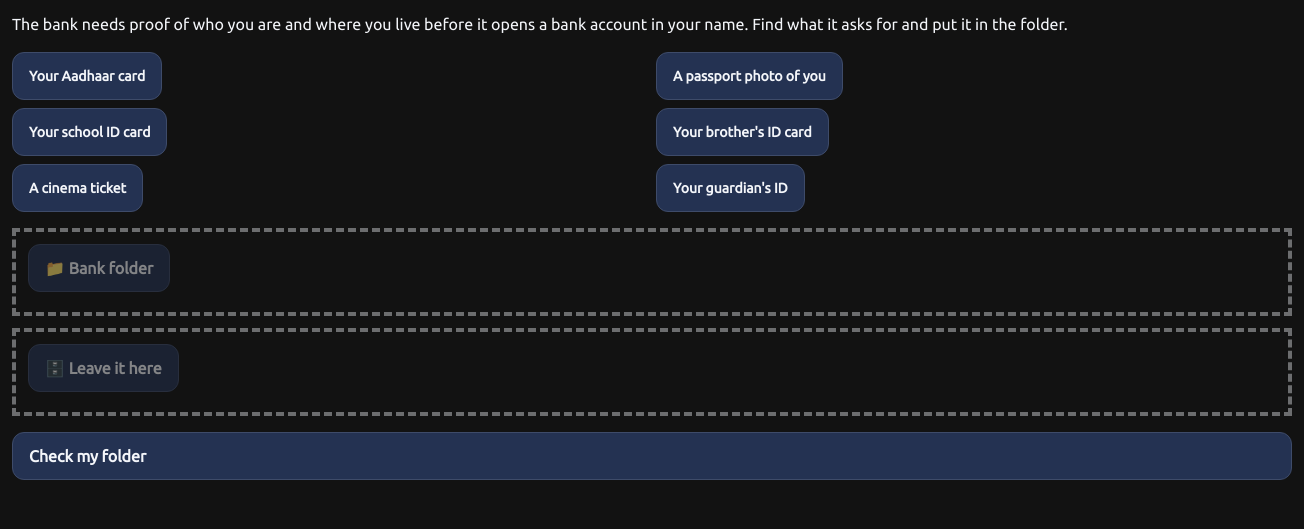
Test case: Document Hunt can actually be played › bounces a document that is not yours, with a reason
Step 1. Click the button "Your brother's ID card" → (742, 132), box [656,108,829,156]
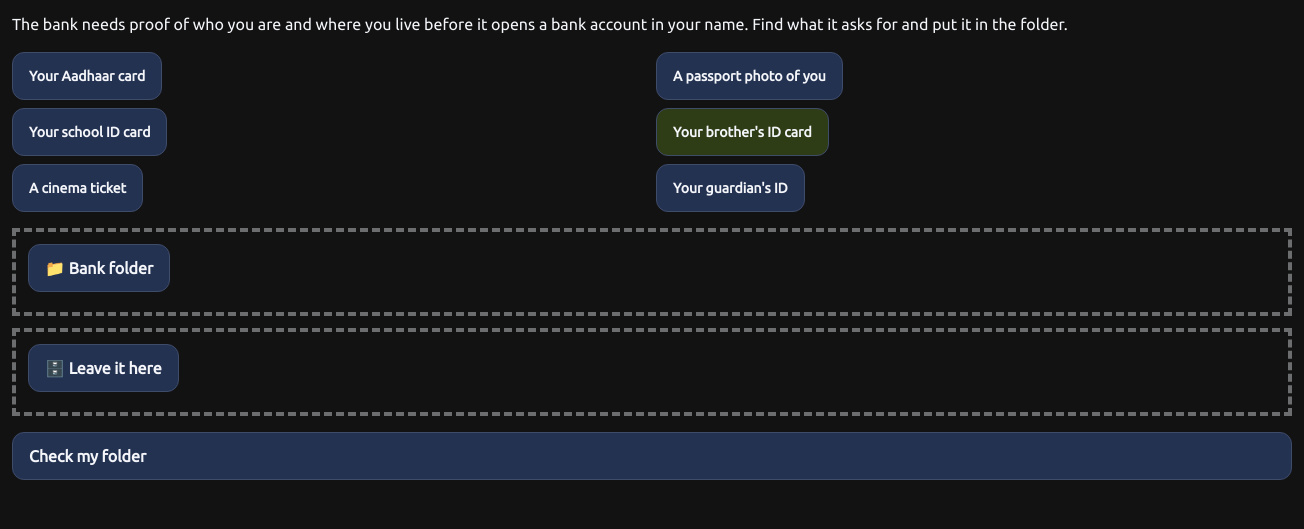
Step 2. Click the button "📁 Bank folder" → (99, 268), box [28,244,170,292]
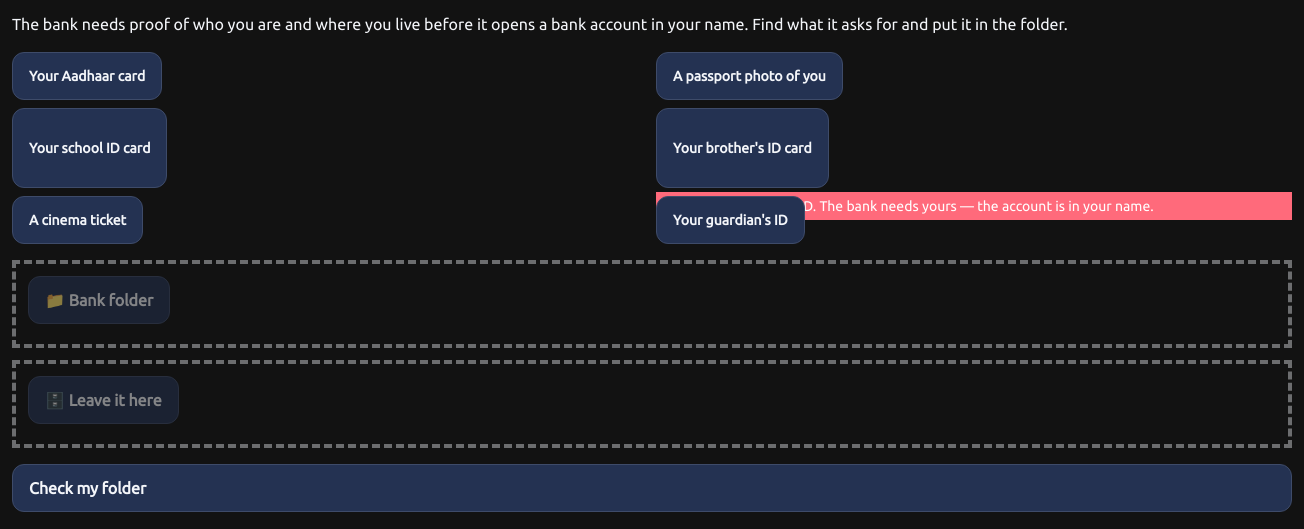
Expected: the button "Your brother's ID card" is shown, [656,108,829,188]
Result: the text "The bank needs yours" is shown at [664,198,1154,214]
